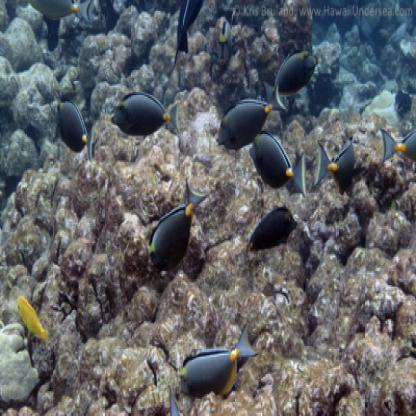surgeon: (175, 328, 261, 403), (150, 175, 209, 277), (247, 128, 310, 201), (215, 84, 282, 152), (236, 207, 303, 269), (108, 88, 186, 138), (311, 133, 362, 199), (265, 46, 325, 102), (51, 93, 93, 160), (380, 124, 416, 172), (215, 15, 241, 73)
